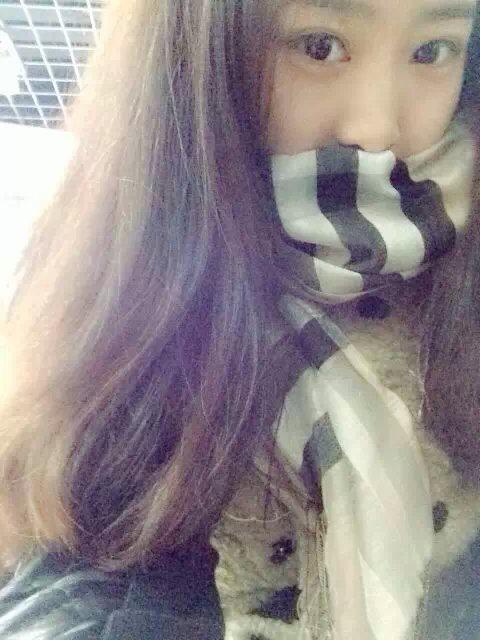WRONG: (259, 6, 462, 209)
